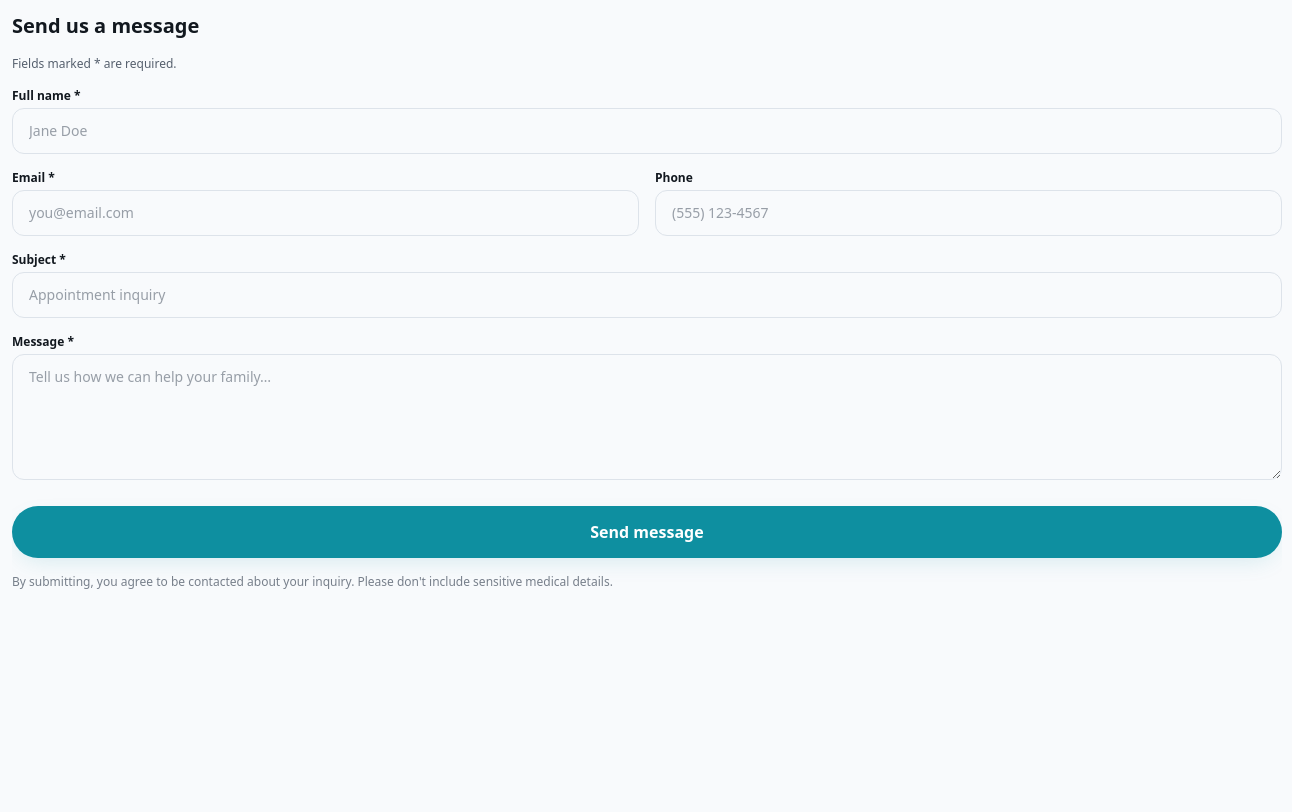
Test: ContactForm › clears a field error once the user corrects it
The image size is (1292, 812).
Click the button "Send message" at [647, 532], box top-left (12, 506), bottom-right (1282, 558)
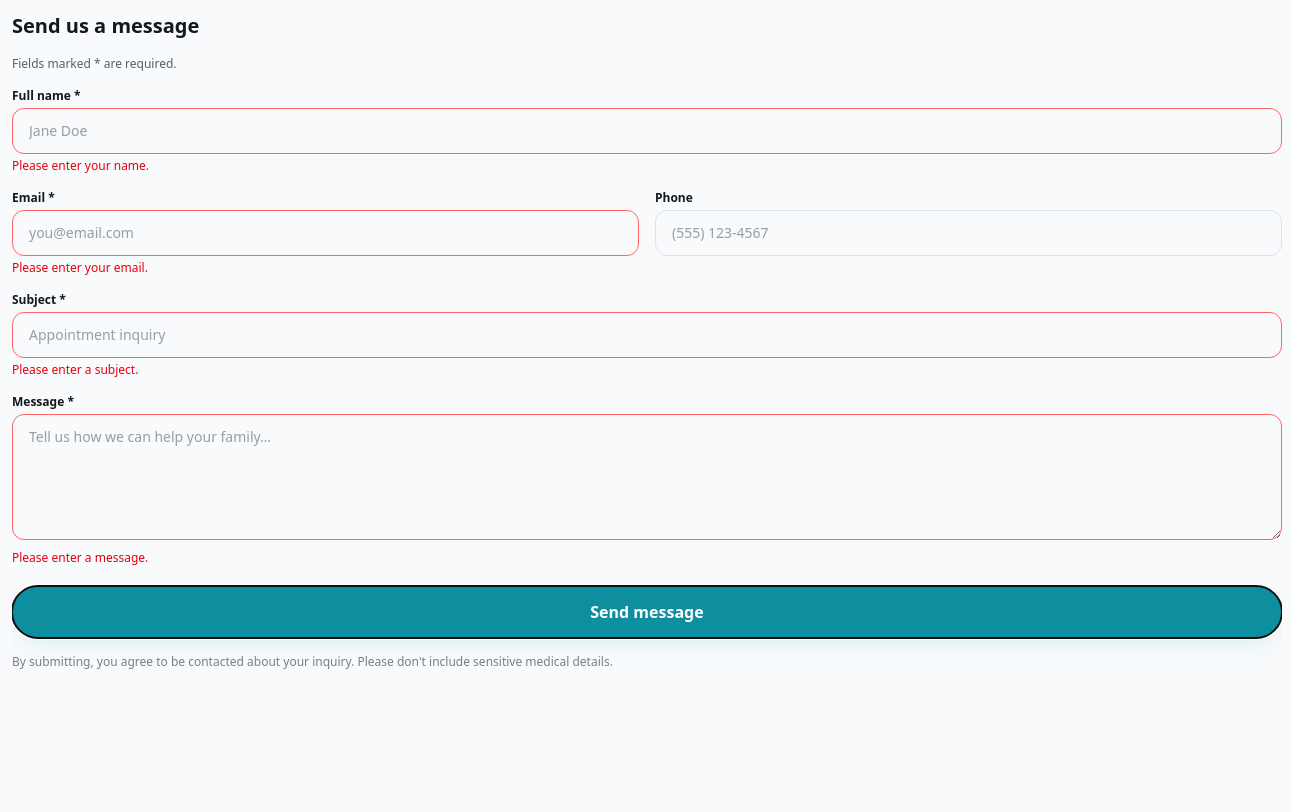
expect the text "Please enter your name." is shown: met, box top-left (12, 157), bottom-right (149, 174)
Type "Jane" into the field labelled "Full name *" at [647, 131], box top-left (12, 108), bottom-right (1282, 154)
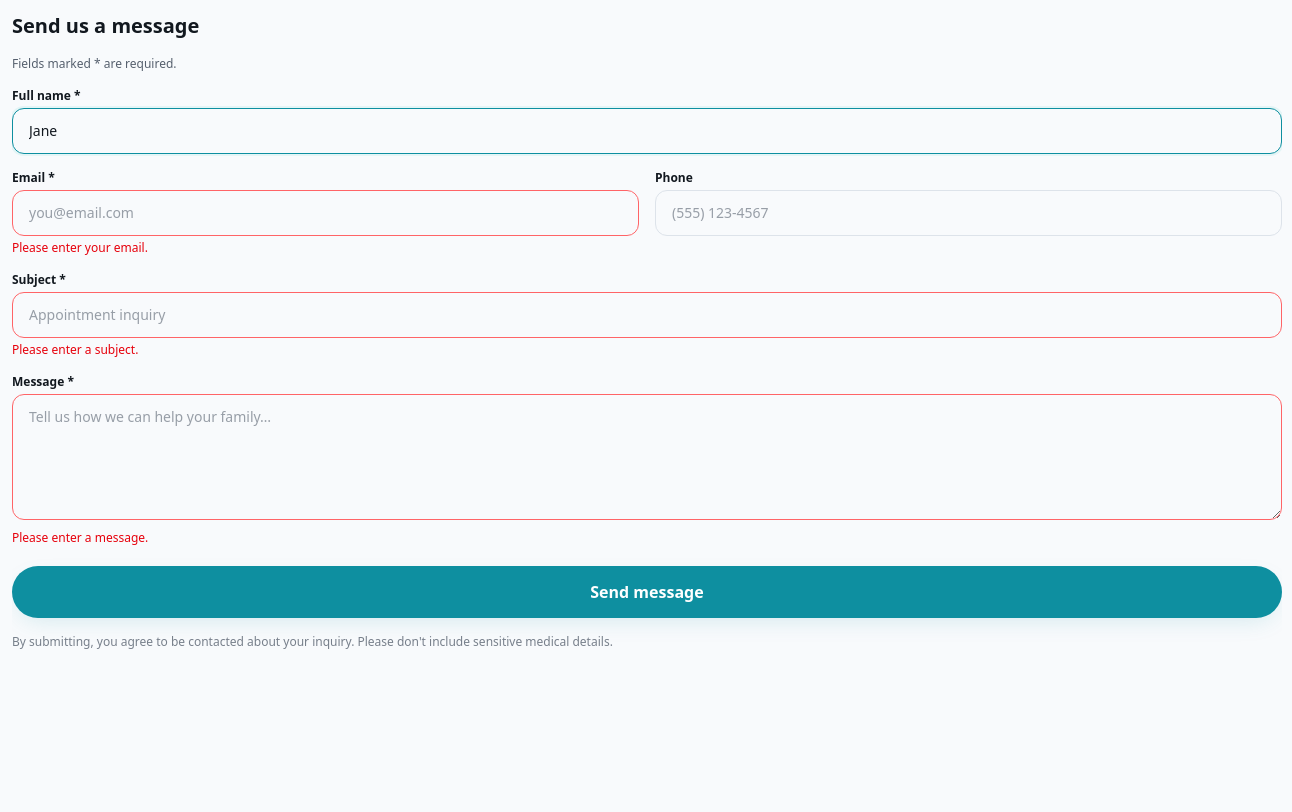
expect the text "Please enter your name" is gone: met
